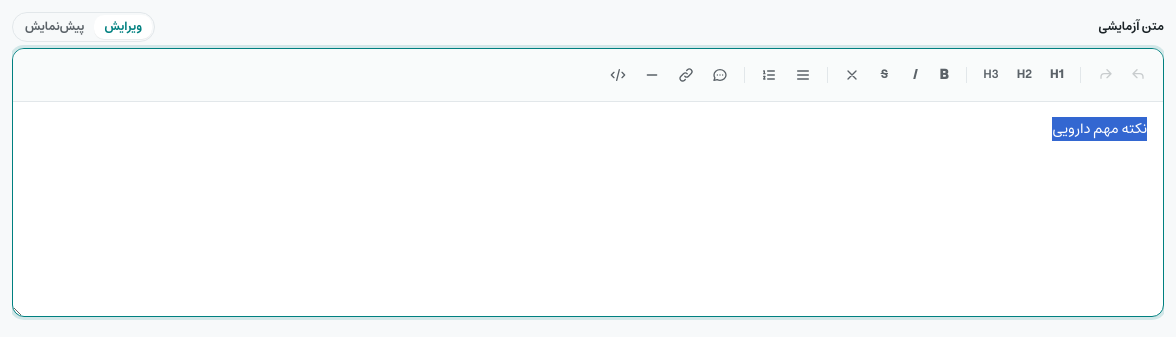
RichTextEditor Component Suite › applies Blockquote formatting
The width and height of the screenshot is (1176, 337).
Click the button named "نقل‌قول یا کادر توجه" at (720, 75), box [704,59,736,91]
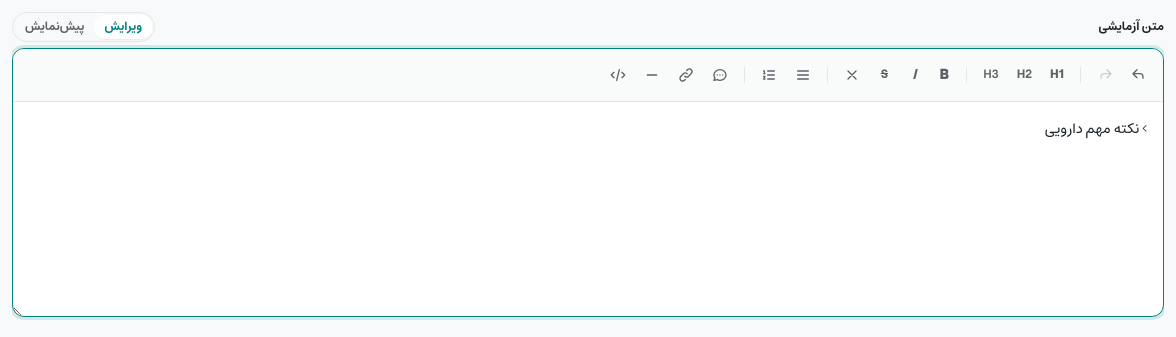
Expected: the text box holds "> نکته مهم دارویی"
